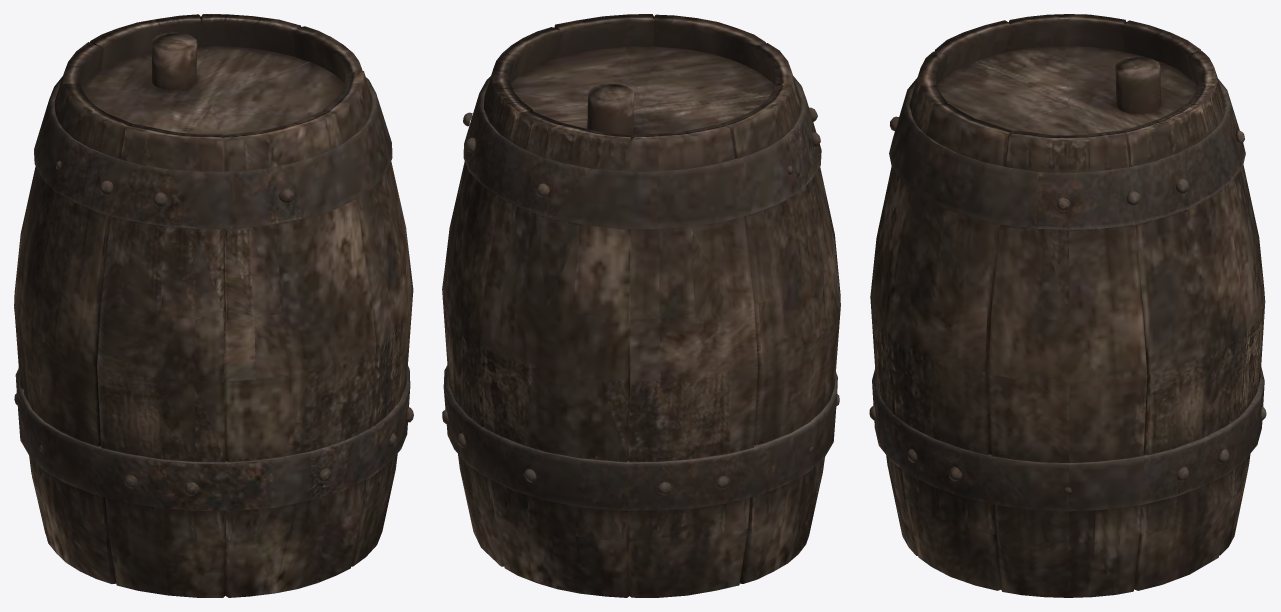
Rendered from d_keg.glb.
3 renders of one model, left to right at view 1: azimuth 30°, elevation 25°; view 2: azimuth 150°, elevation 25°; view 3: azimuth 270°, elevation 25°, orthographic.
Visible parts, largest first — view 1: d_keg; view 2: d_keg; view 3: d_keg.
Part boxes in pixels (bbox=[...]): d_keg: bbox=[14, 14, 413, 597]; d_keg: bbox=[442, 14, 840, 597]; d_keg: bbox=[869, 14, 1266, 597].
Bounding box in the file's own units: 1.62 × 2.05 × 1.61.
Materials: 1 (1 with a texture image).
